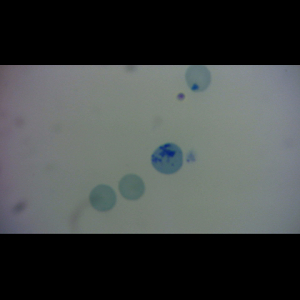aggregate reticulocyte: (150, 142, 185, 176)
erythrocyte: (88, 183, 118, 213), (184, 65, 214, 94), (117, 173, 146, 201)
